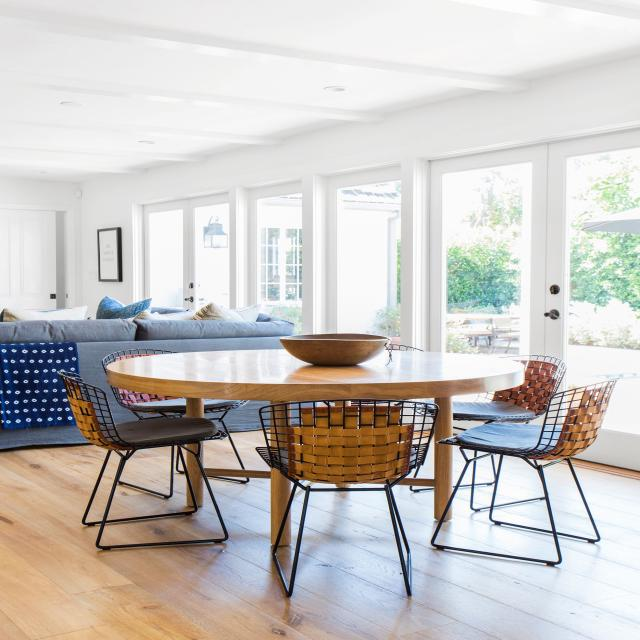obstacle: (16, 358, 248, 556), (253, 383, 445, 596), (464, 372, 631, 576)
